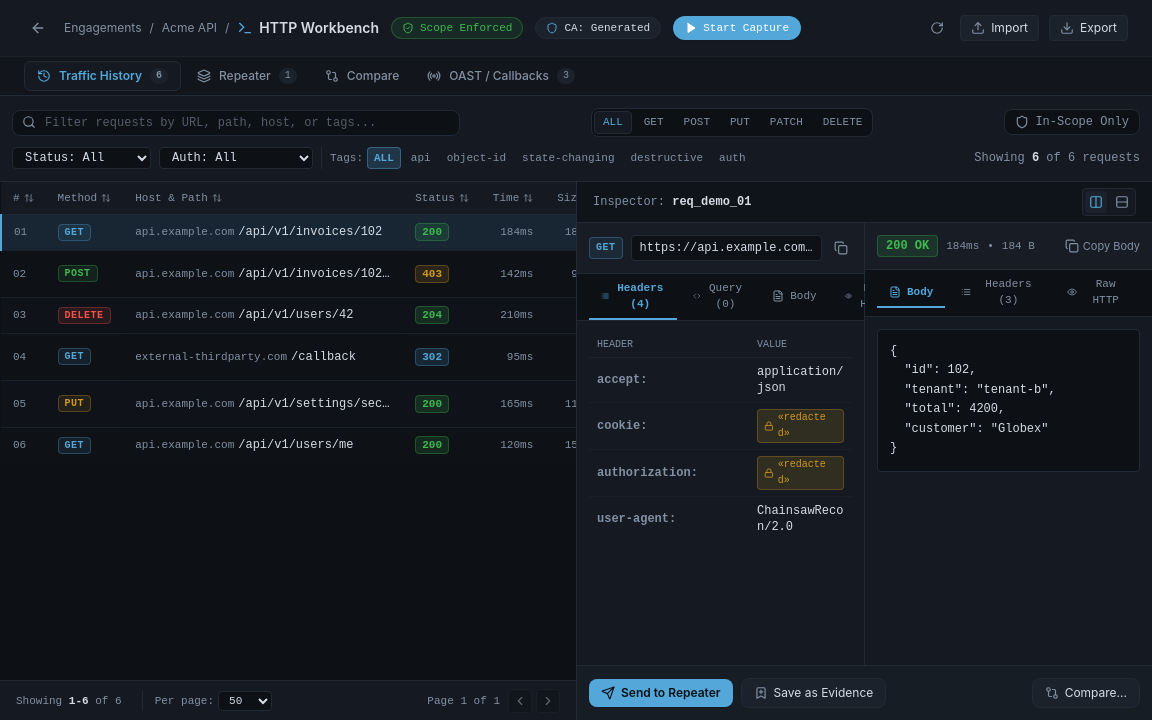
it: WorkbenchPage (Milestone 3: Native HTTP Workbench) Tests › Send to Repeater clones request into a new Repeater tab
The image size is (1152, 720).
Expected: the text "/api/v1/invoices/102" is shown, [238, 225, 382, 239]
Click "Send to Repeater" in the action footer
Click the button "Send to Repeater" at (661, 693), box [589, 679, 732, 707]
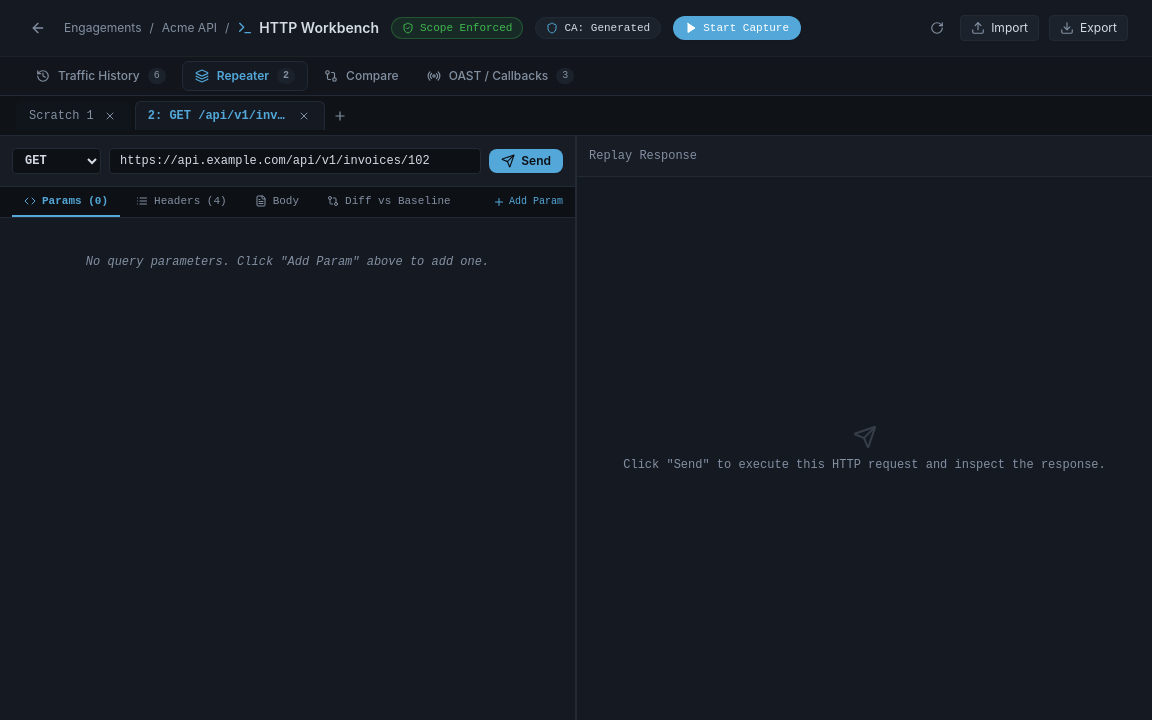
Expected: the text "2: GET /api/v1/invoices/102" is shown, [148, 108, 288, 124]
Expected: the button "Send" is shown, [489, 149, 563, 173]
